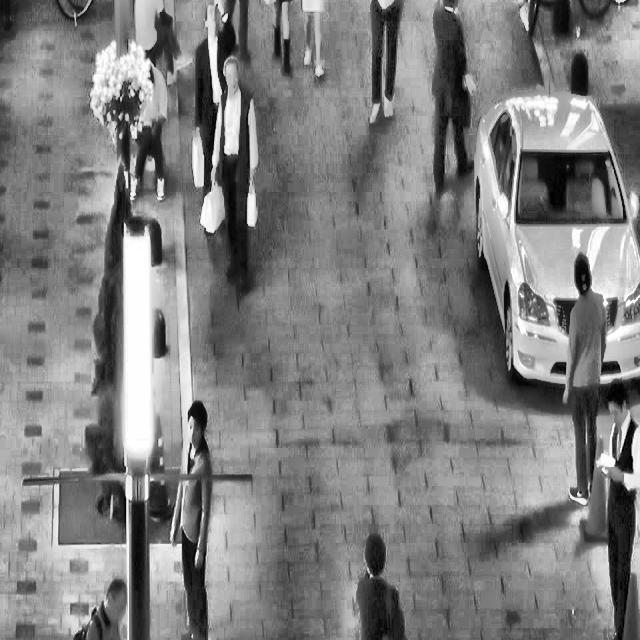light_vehicle: (468, 74, 640, 394)
